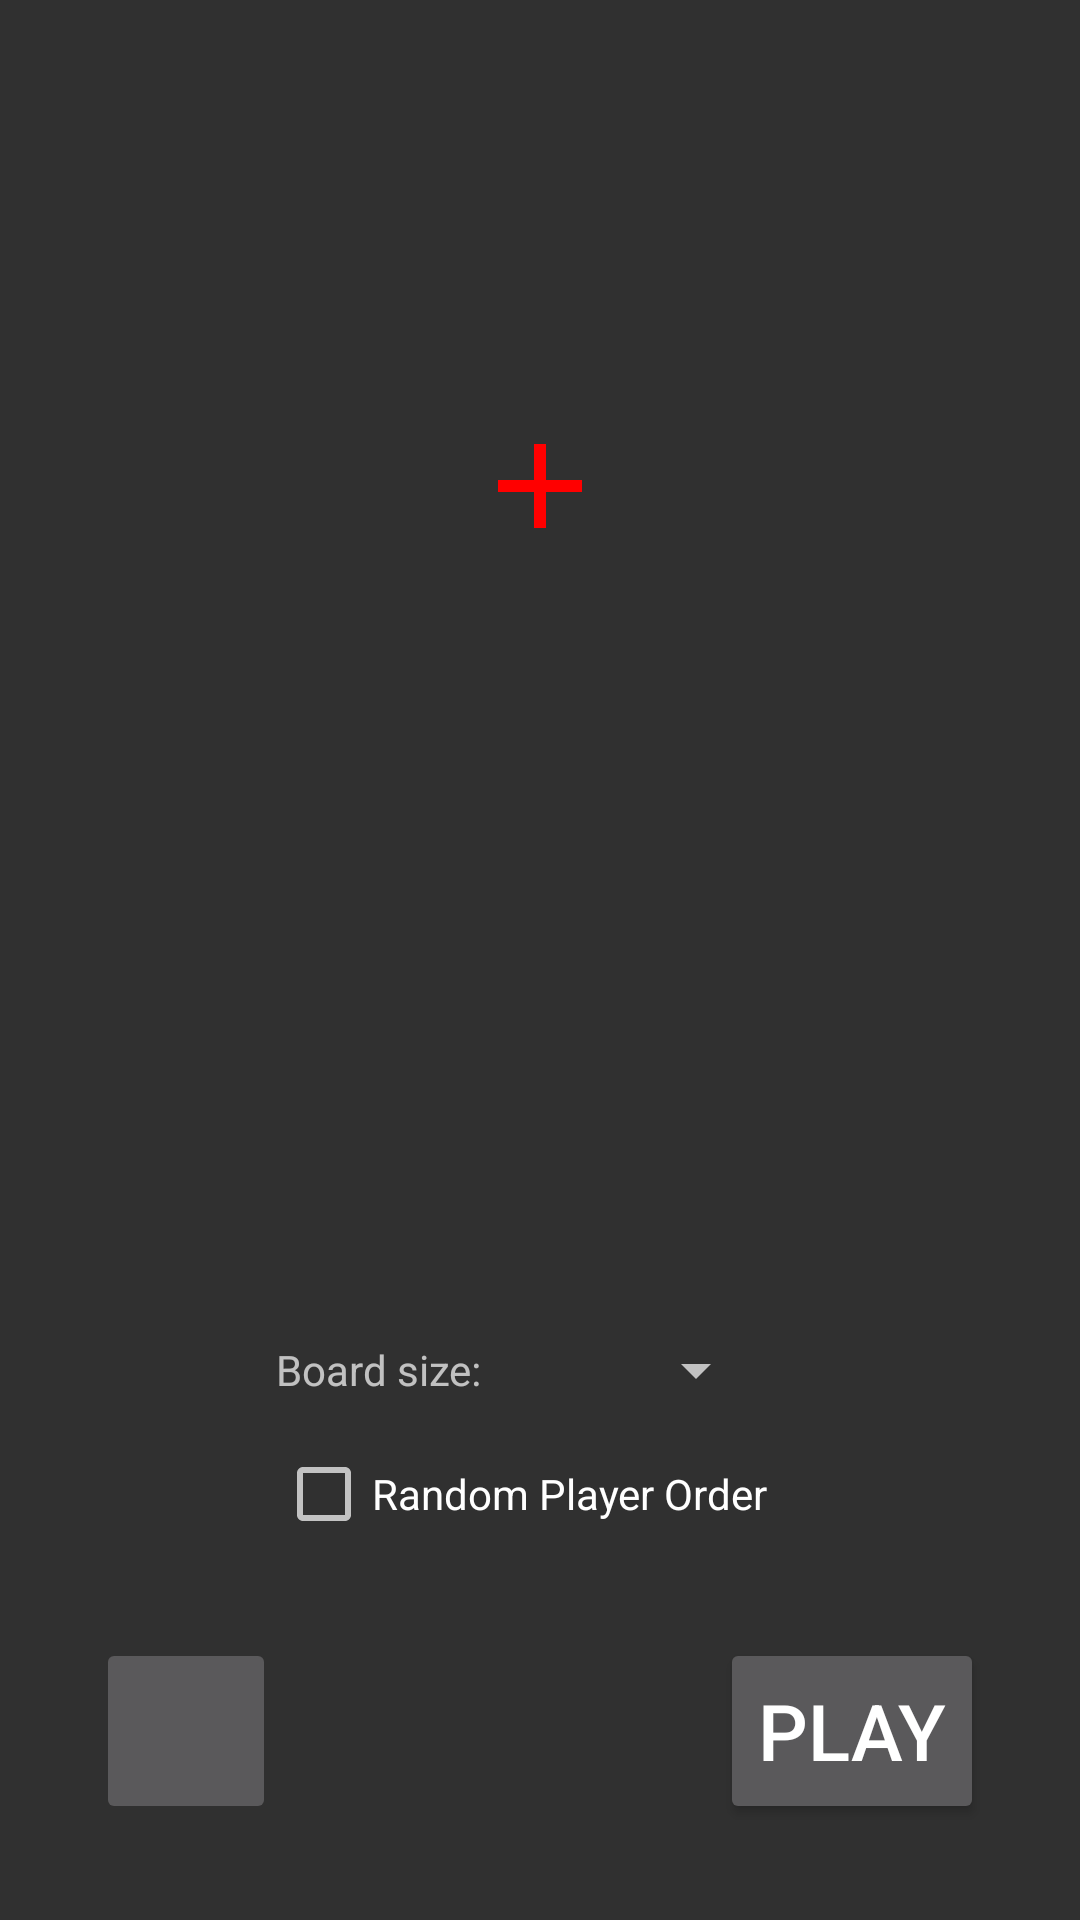

Icon bounding boxes for this 1080px×1920px phone screenshot, format [x1,y1,x2,y2]:
add: [498,444,582,528]
